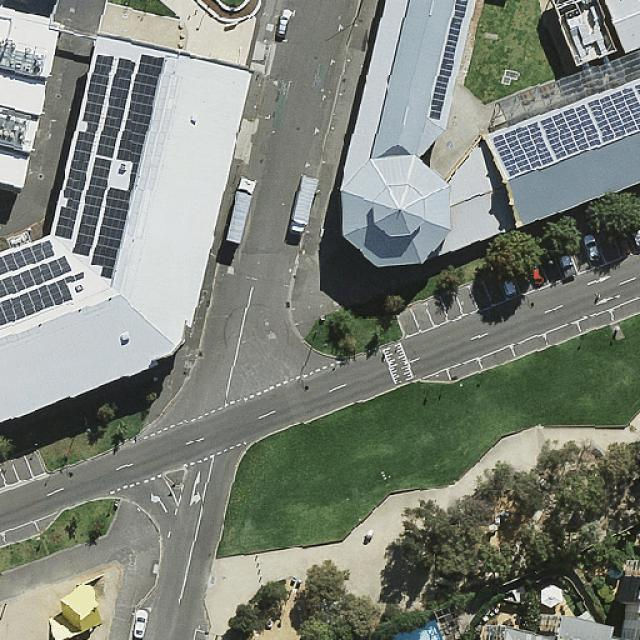Bike-Symbols: (278, 83, 289, 95), (314, 77, 322, 86)
